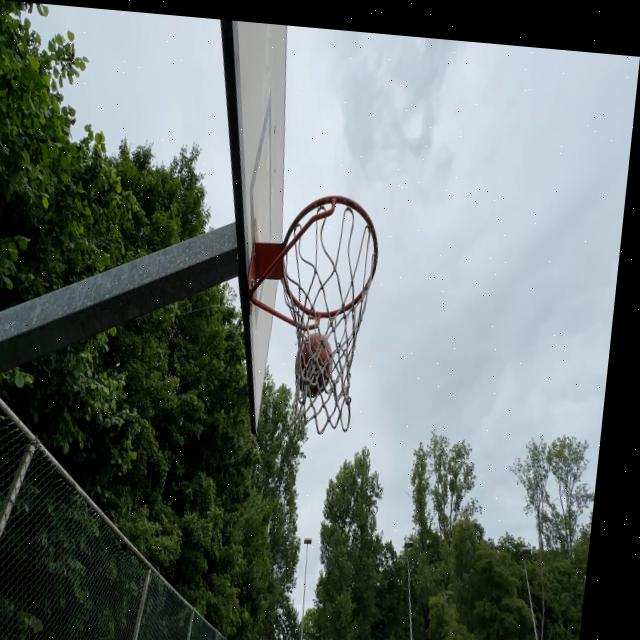Basketball: (295, 329, 335, 399)
